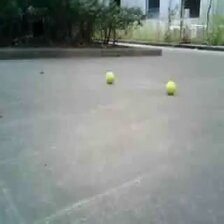tennis: (166, 80, 176, 94), (104, 72, 114, 81)
